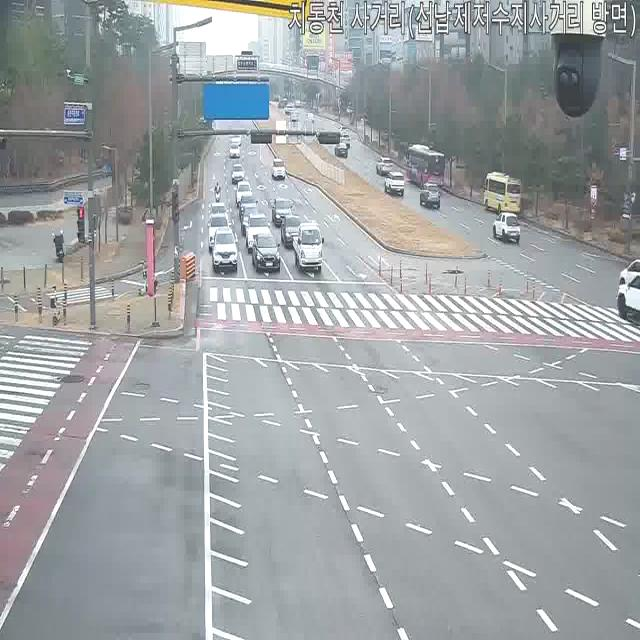Bus: (406, 144, 447, 190), (482, 172, 524, 215)
Car: (482, 172, 524, 215), (210, 228, 238, 274), (614, 274, 640, 323), (251, 233, 281, 274), (244, 213, 272, 252), (493, 212, 521, 244), (207, 215, 232, 250), (281, 214, 306, 248), (616, 252, 640, 287), (271, 197, 294, 227), (240, 207, 262, 235), (384, 170, 406, 197), (419, 183, 441, 209), (238, 193, 258, 221), (209, 201, 229, 227), (235, 180, 253, 208), (376, 156, 393, 176), (271, 158, 286, 180), (271, 157, 286, 179), (231, 162, 245, 185), (228, 138, 242, 160), (335, 141, 347, 158), (338, 124, 350, 140), (290, 110, 298, 124), (305, 112, 314, 123), (278, 98, 287, 108)
Motorcycle: (214, 180, 221, 205)
Truck: (294, 221, 324, 273)
